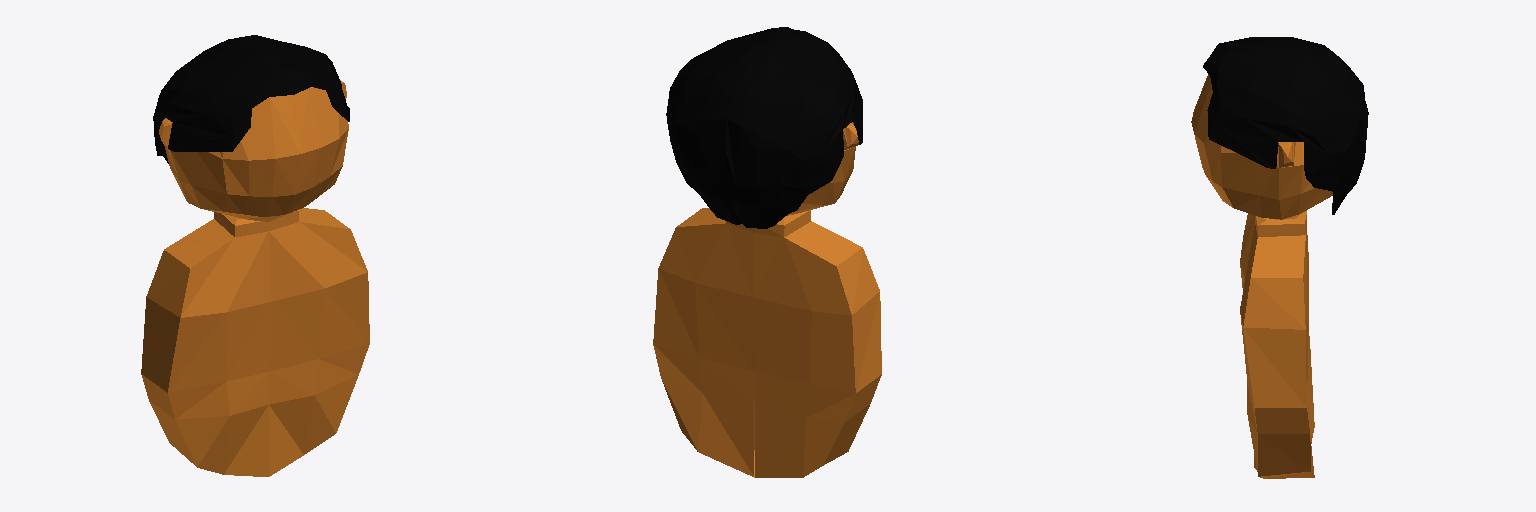
File: char.obj
3 views of the same model, side by side, from view 1: azimuth 30°, elevation 25°; view 2: azimuth 150°, elevation 25°; view 3: azimuth 270°, elevation 25° (orthographic).
Parts seen in each view (by area): view 1: Cube, Cube.001; view 2: Cube, Cube.001; view 3: Cube, Cube.001.
Boxes of the visible parts, <box> form: Cube: <box>141,80,369,476</box>; Cube.001: <box>153,35,349,163</box>; Cube: <box>653,122,881,477</box>; Cube.001: <box>666,27,862,228</box>; Cube: <box>1191,74,1332,478</box>; Cube.001: <box>1203,37,1368,214</box>.
Size of the model in its own units: 1.79 by 3.58 by 1.36.